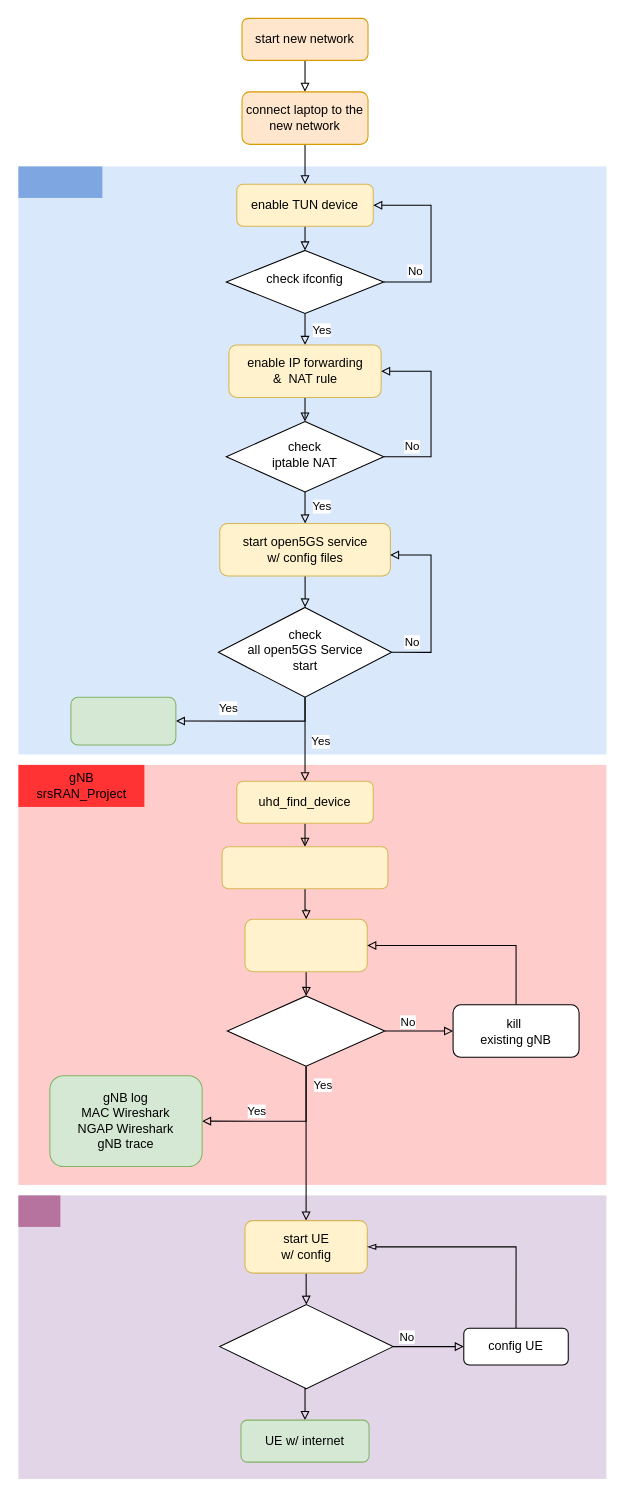
Some shapes in this 624 by 1497 pixel diagram are drawn without their labels. Each missing label, with the centre of its shape:
"5gc.log" belongs at pixel 123 720.
"gNB start successful" belongs at pixel 305 1030.
"Open5GS" belongs at pixel 60 181.
"run performance script" belongs at pixel 304 867.
"start gNB w/ config file" belongs at pixel 305 945.
"test internet access" belongs at pixel 306 1346.
"UE" belongs at pixel 39 1210.
